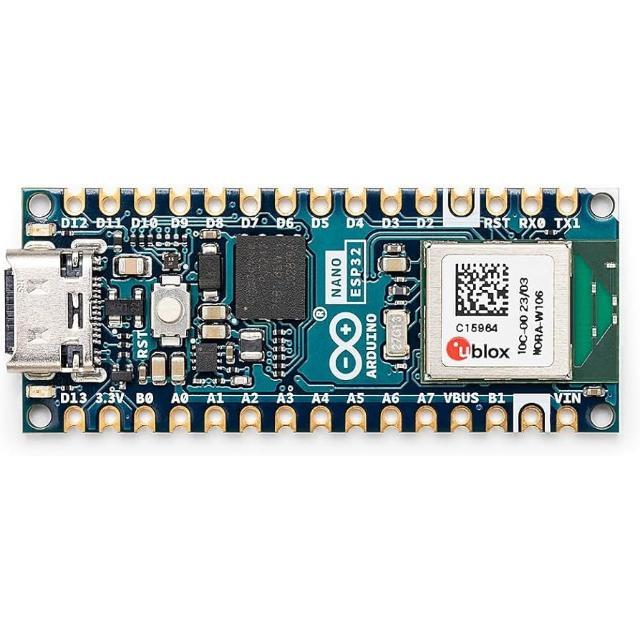Arduino-Nano: (4, 187, 620, 435)
